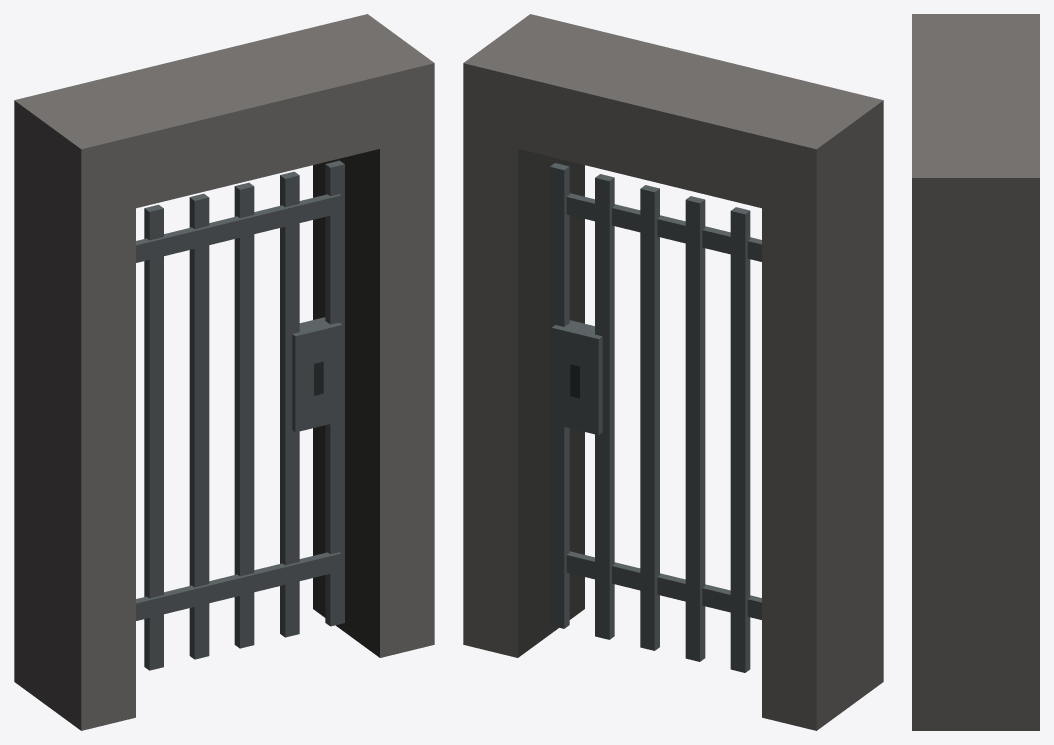
The model's file is SD_Env_Door_03.fbx.
3 renders of one model, left to right at view 1: azimuth 30°, elevation 25°; view 2: azimuth 150°, elevation 25°; view 3: azimuth 270°, elevation 25°, orthographic. The views are drawn at different scales.
Visible parts, largest first — view 1: SD_Env_Door_03, Door; view 2: SD_Env_Door_03, Door; view 3: SD_Env_Door_03.
Part boxes in pixels (x1,y1,x2,y2): SD_Env_Door_03: (14,14,434,730); Door: (136,160,344,670); SD_Env_Door_03: (463,14,883,730); Door: (549,163,761,672); SD_Env_Door_03: (912,14,1039,730).
Size of the model in its own units: 2.58 by 4.06 by 0.8503.
